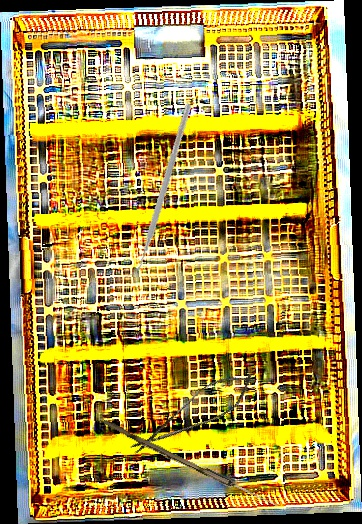Chopper: (85, 102, 230, 279)
Micro Scissor: (123, 361, 264, 467)
Surgical Spoon: (101, 419, 281, 510)
